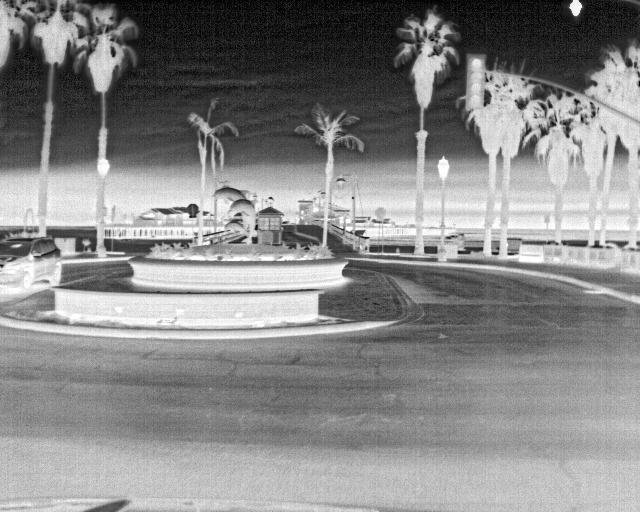car: (0, 237, 62, 289)
